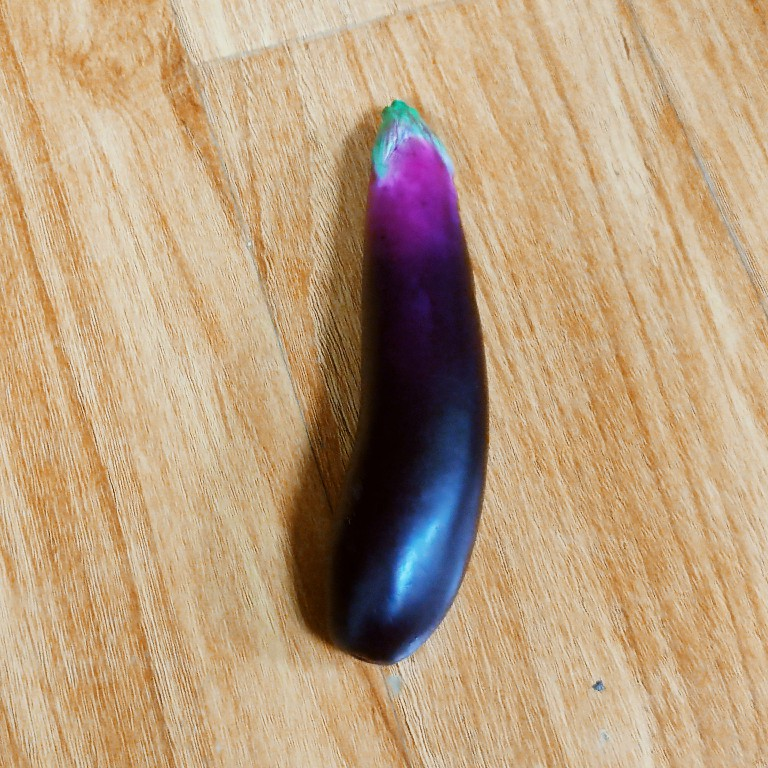fruit_eggplant: (325, 96, 493, 670)
